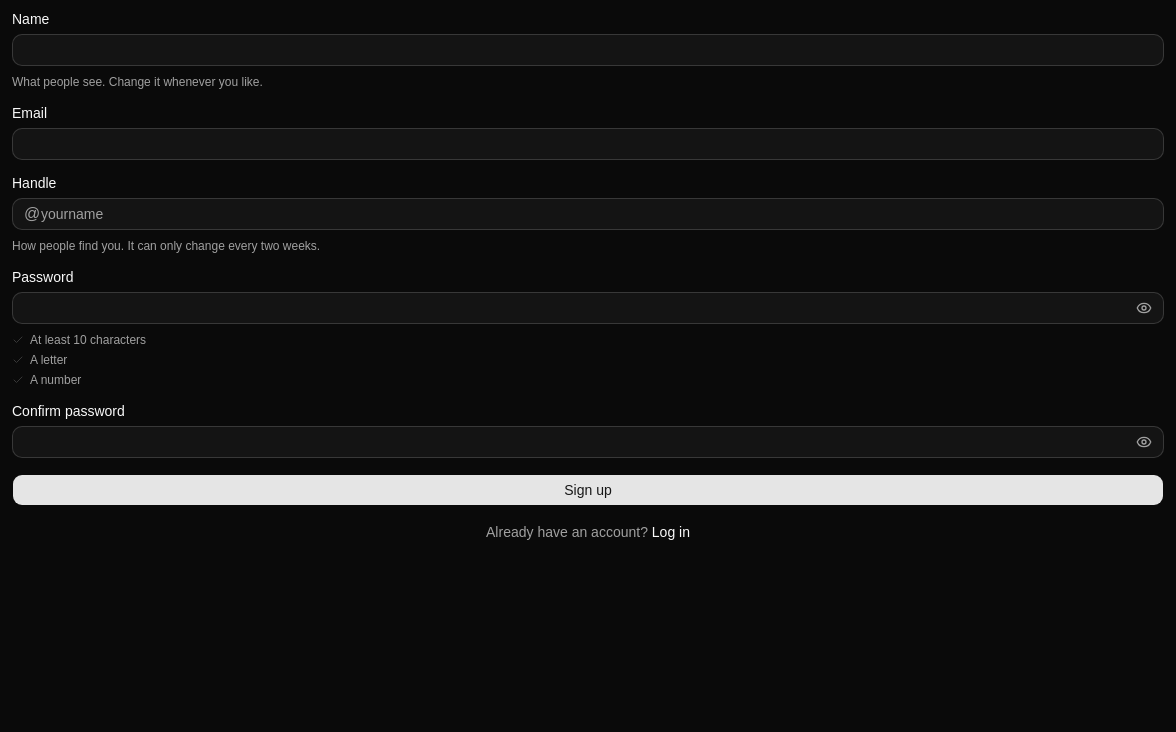
Test: AuthForm, signing up › will not sign anyone up without a handle they chose
Type "Ada" into the field labelled "Name". click: x=588, y=50
box: [12,34,1164,66]
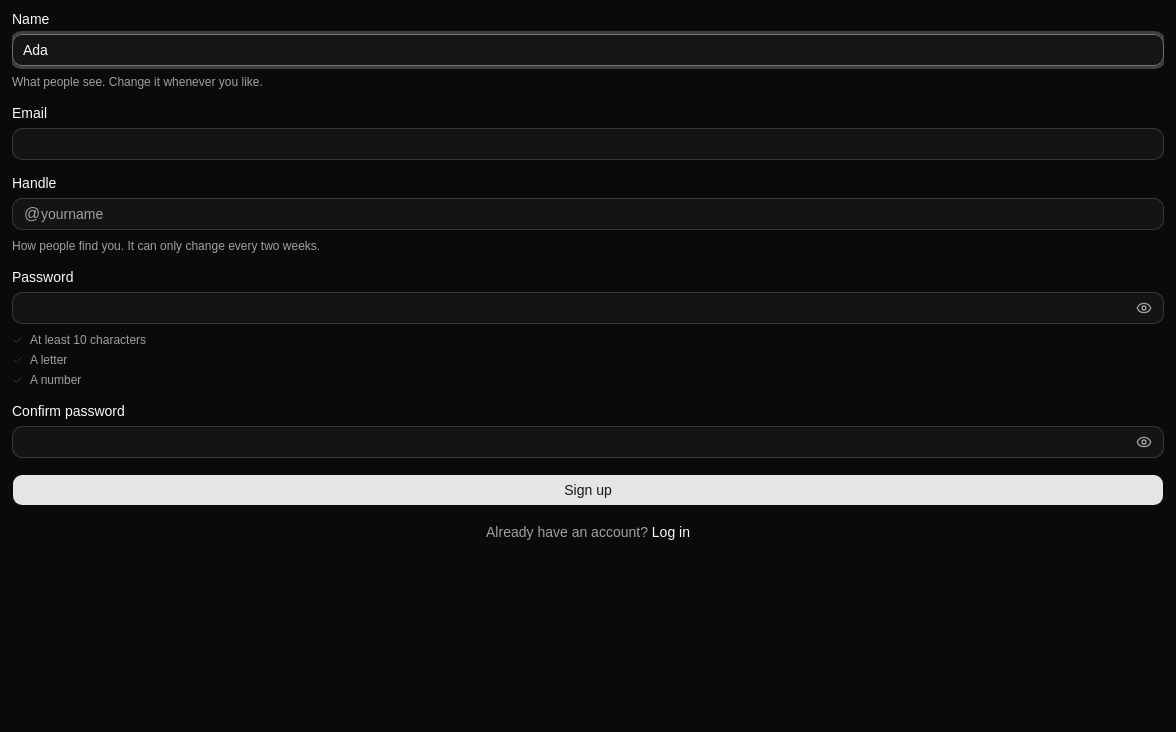
Type "ada@example.com" into the field labelled "Email". click: x=588, y=144
box: [12,128,1164,160]
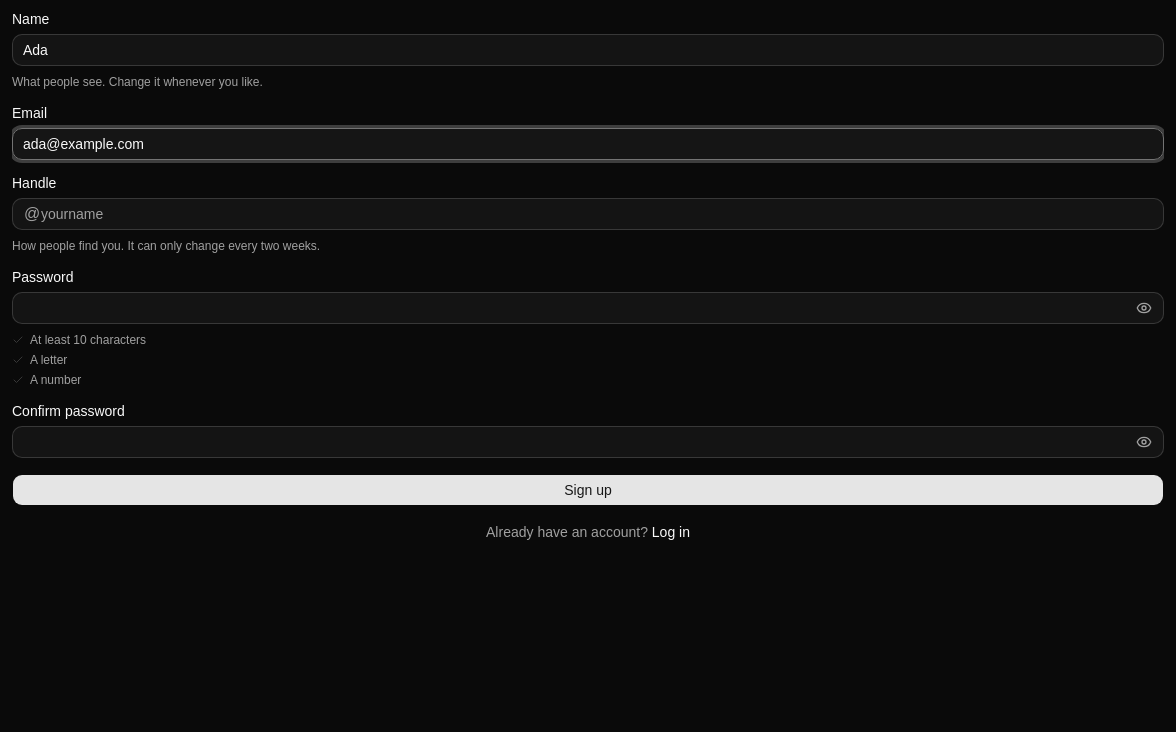
Type "lovelace-1815" into the password field labelled "Password". click: x=588, y=308
box: [12,292,1164,324]
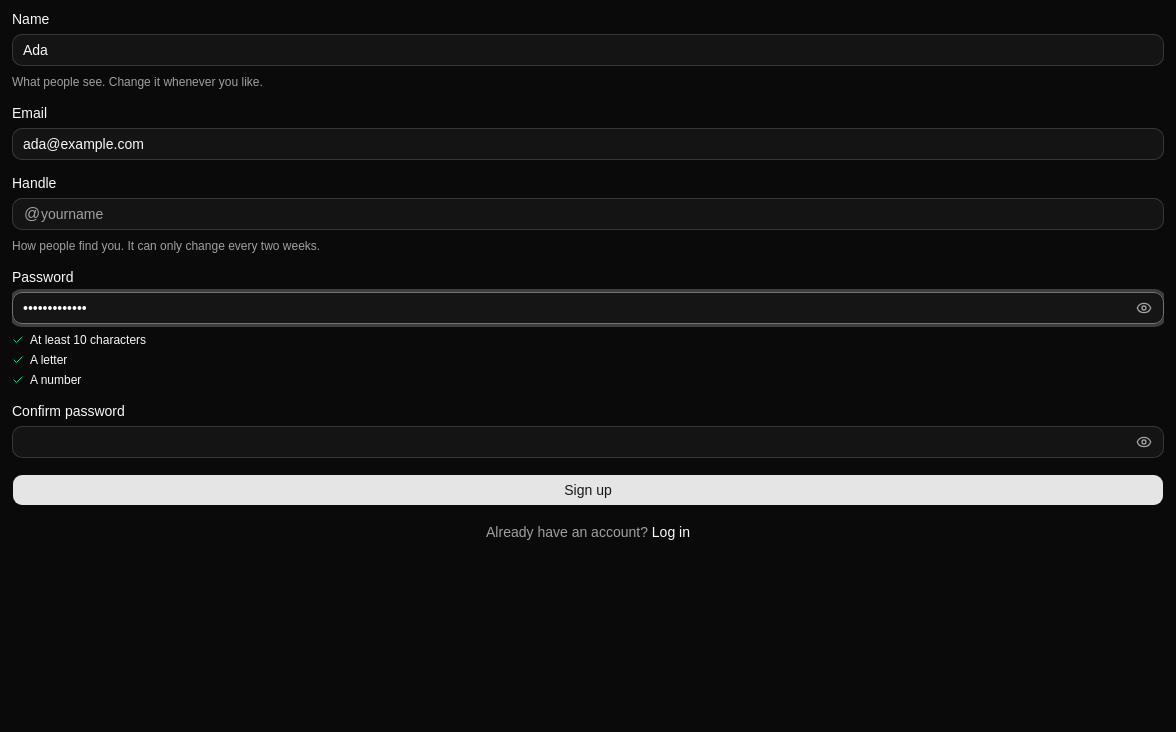
Type "lovelace-1815" into the password field labelled "Confirm password". click: x=588, y=442
box: [12,426,1164,458]
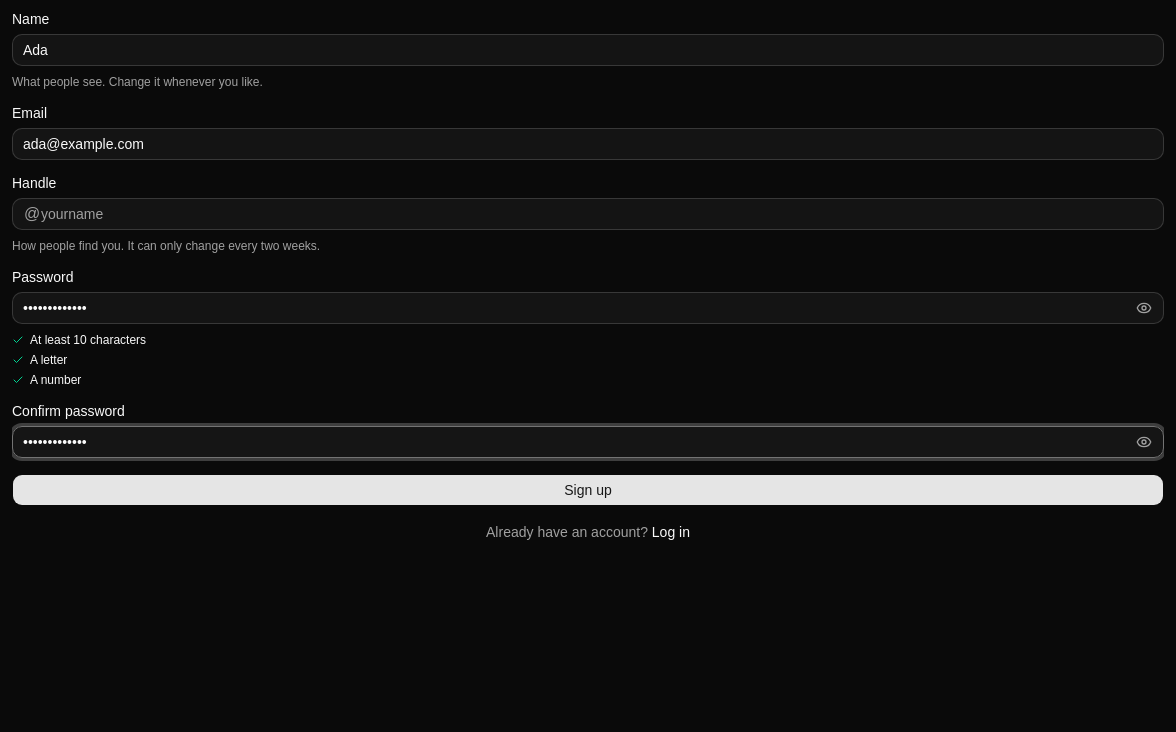
Click the button "Sign up". click: x=588, y=490
box: [12,474,1164,506]
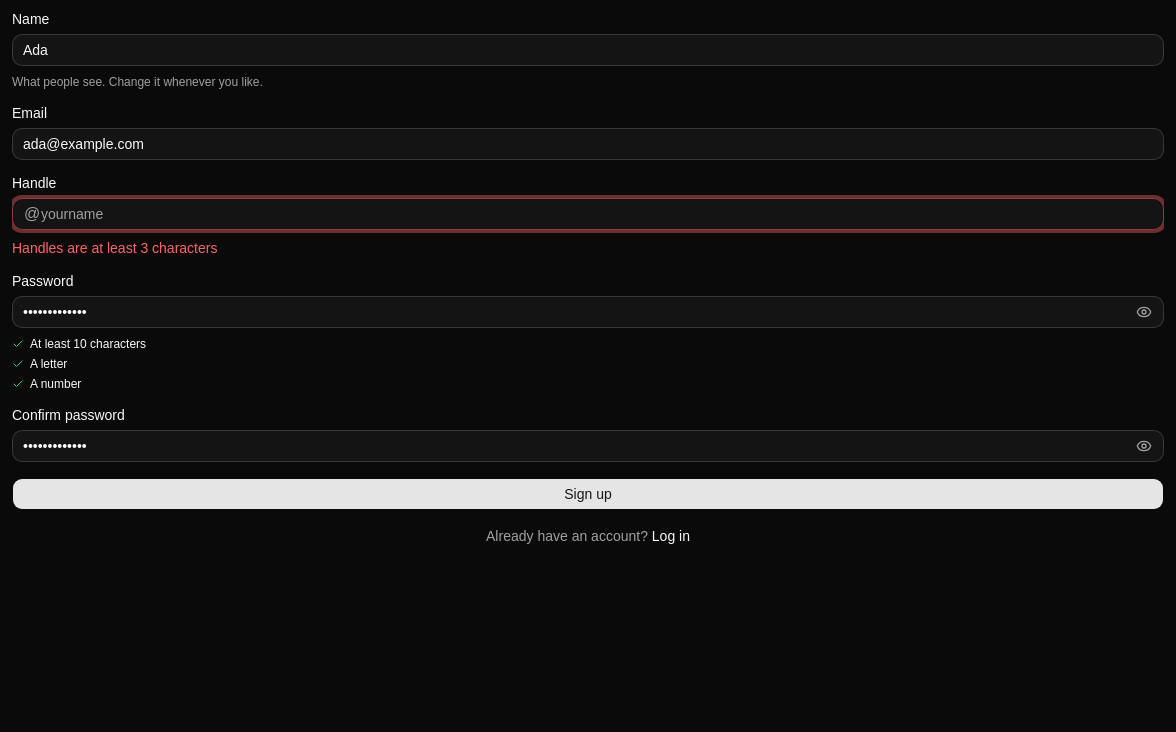
expect the text "Handles are at least 3 characters" is shown: met, box [12,240,218,256]
